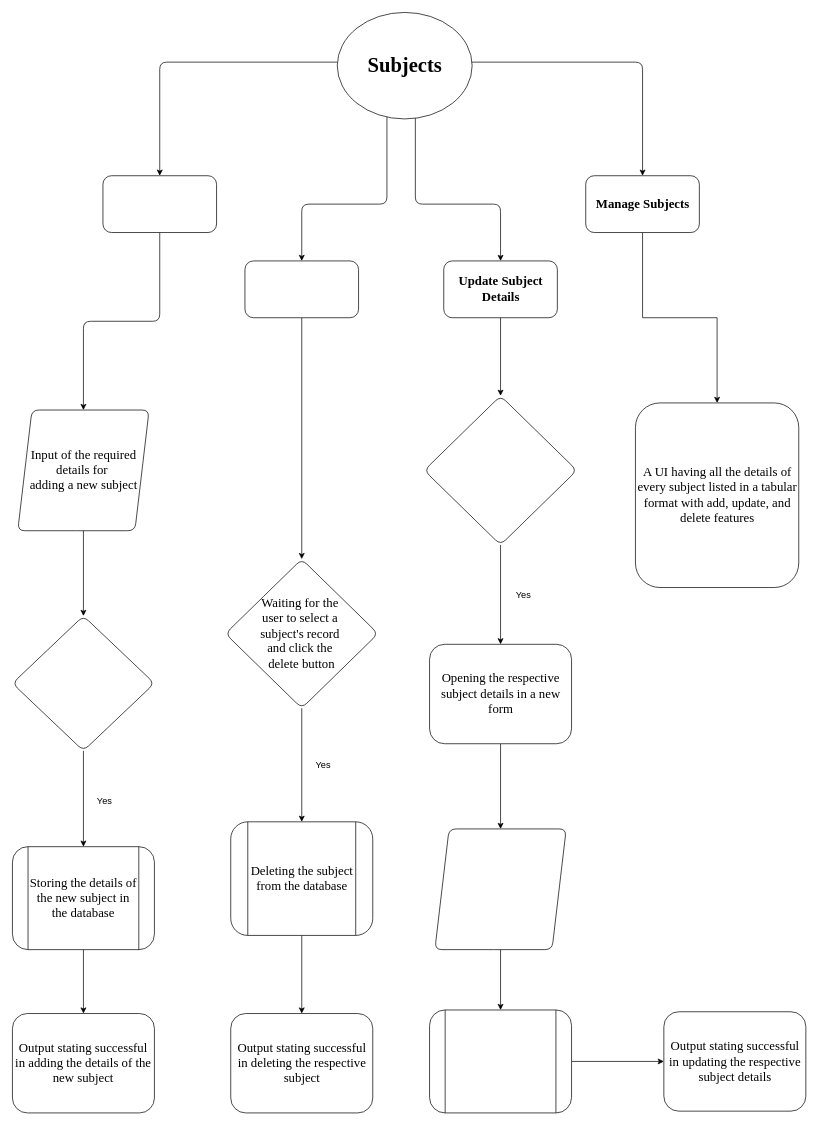
Some shapes in this 819 by 1125 pixel diagram are drawn without their labels. The centre of each missing label's shape, as x and y in pixels:
"Add New Subject" belongs at (x=159, y=204).
"Delete Subject" belongs at (x=301, y=289).
"Updated input for the respective subject" belongs at (x=500, y=889).
"Updating the details of the respective subject in the database." belongs at (x=500, y=1061).
"Waiting for the user to click the save button" belongs at (x=83, y=683).
"Waiting for the user to select a subject's record and click the update button" belongs at (x=500, y=470).
